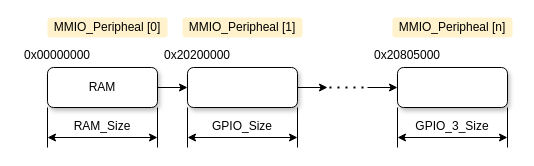
This 534x166 diagram has some shape labels left out. Here are the shapes that lost their labels. From the top down, the centre of each, then its label:
[243,88]: GPIO
[453,88]: BSC_3
